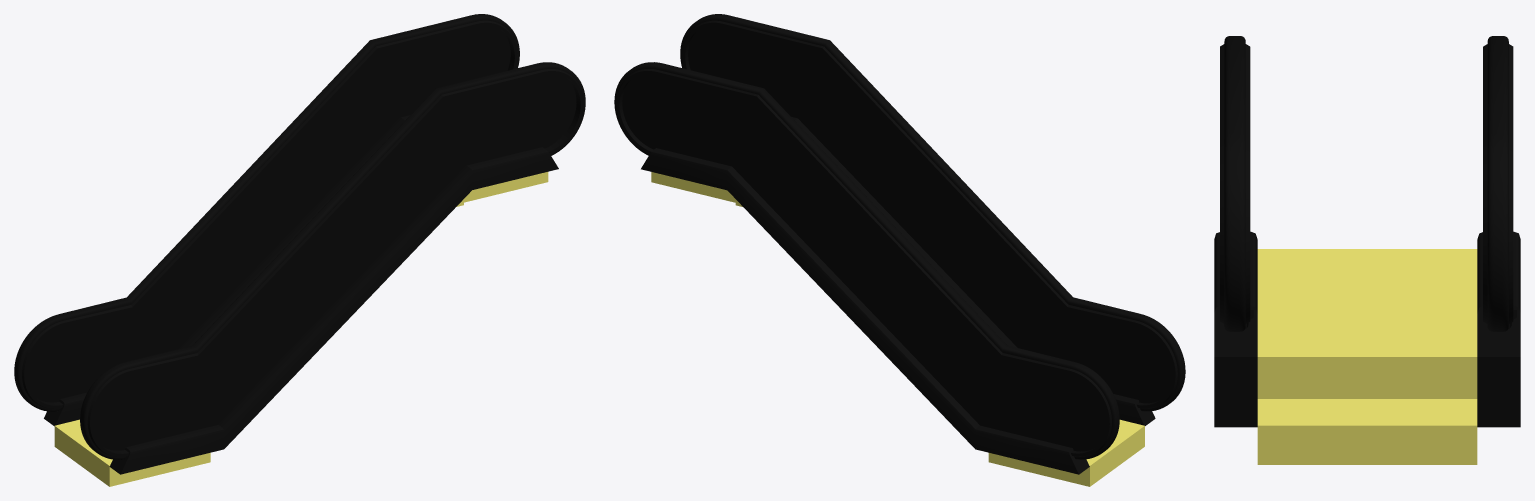
File: Escalator.fbx
3 views of the same model, side by side, from view 1: azimuth 30°, elevation 25°; view 2: azimuth 150°, elevation 25°; view 3: azimuth 270°, elevation 25° (orthographic). The views are drawn at different scales.
Visible parts, largest first — view 1: Railing001, Railing, Rail_Base001, Rail_Base, Lower, Higher; view 2: Railing, Railing001, Rail_Base, Lower, Rail_Base001, Higher; view 3: Higher, Lower, Railing, Railing001, Rail_Base001, Rail_Base, Step.
Part boxes in pixels (box(x1,y1,x2,y2)): Railing001: box(80, 62, 585, 459); Railing: box(14, 14, 519, 411); Rail_Base001: box(109, 147, 558, 474); Rail_Base: box(44, 115, 410, 426); Lower: box(54, 419, 210, 486); Higher: box(464, 172, 548, 202); Railing: box(614, 62, 1119, 459); Railing001: box(680, 14, 1185, 411); Rail_Base: box(641, 148, 1089, 474); Lower: box(988, 419, 1144, 486); Rail_Base001: box(791, 116, 1155, 425); Higher: box(651, 172, 735, 202); Higher: box(1257, 272, 1477, 398); Lower: box(1257, 399, 1477, 464); Railing: box(1483, 36, 1513, 331); Railing001: box(1220, 36, 1250, 331); Rail_Base001: box(1214, 231, 1257, 427); Rail_Base: box(1477, 231, 1520, 427); Step: box(1257, 249, 1477, 272).
Size of the model in its own units: 766 by 471 by 202.
